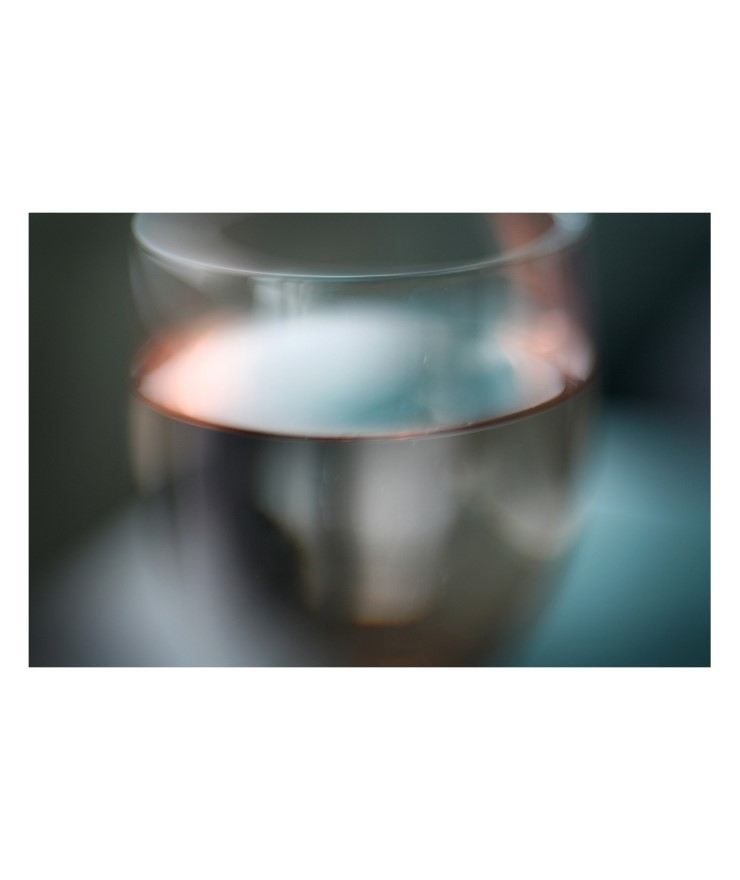glass of water: (139, 236, 592, 593)
